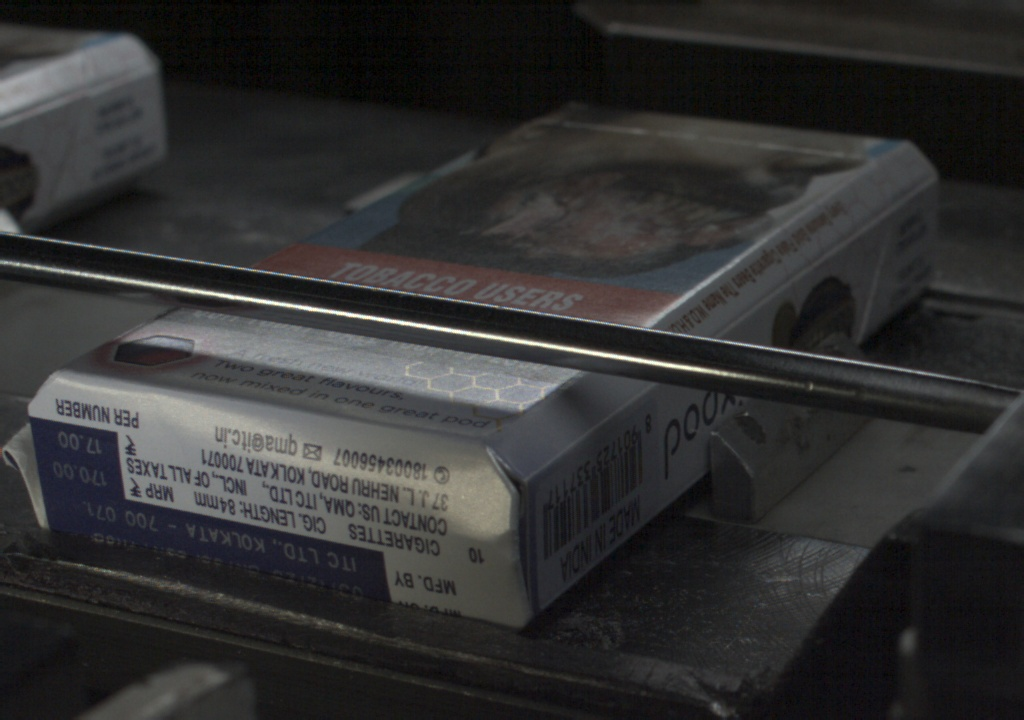g_label: (46, 491, 406, 605)
g_lmiter: (713, 266, 806, 336), (814, 212, 886, 270), (588, 387, 653, 433), (525, 434, 587, 479)
g_miter: (893, 174, 939, 205)
ng_lmiter: (1, 375, 44, 529)
price: (33, 421, 132, 488)
